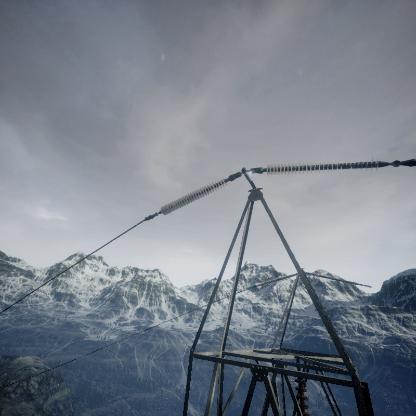insulator: (152, 175, 234, 218), (263, 158, 397, 176)
